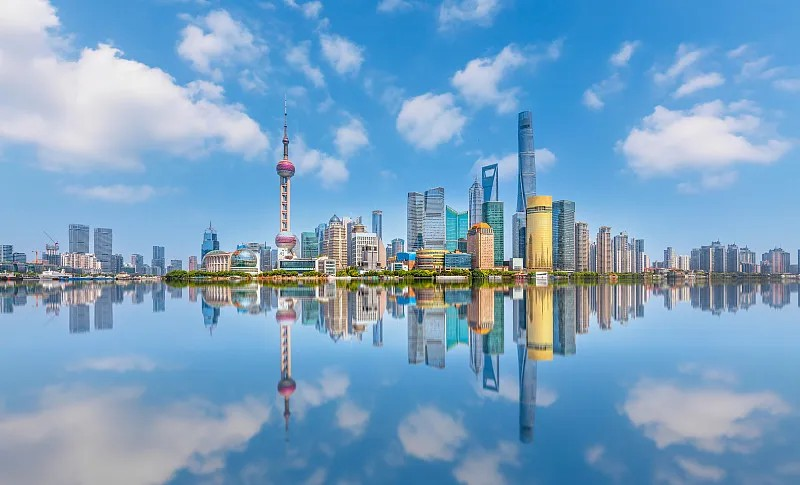Oriental: (274, 93, 299, 267)
